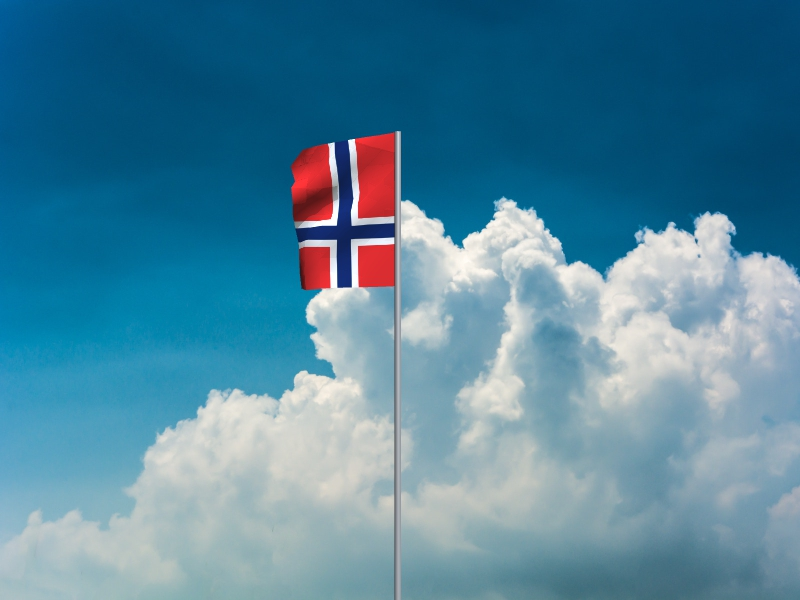no: (291, 133, 395, 291)
